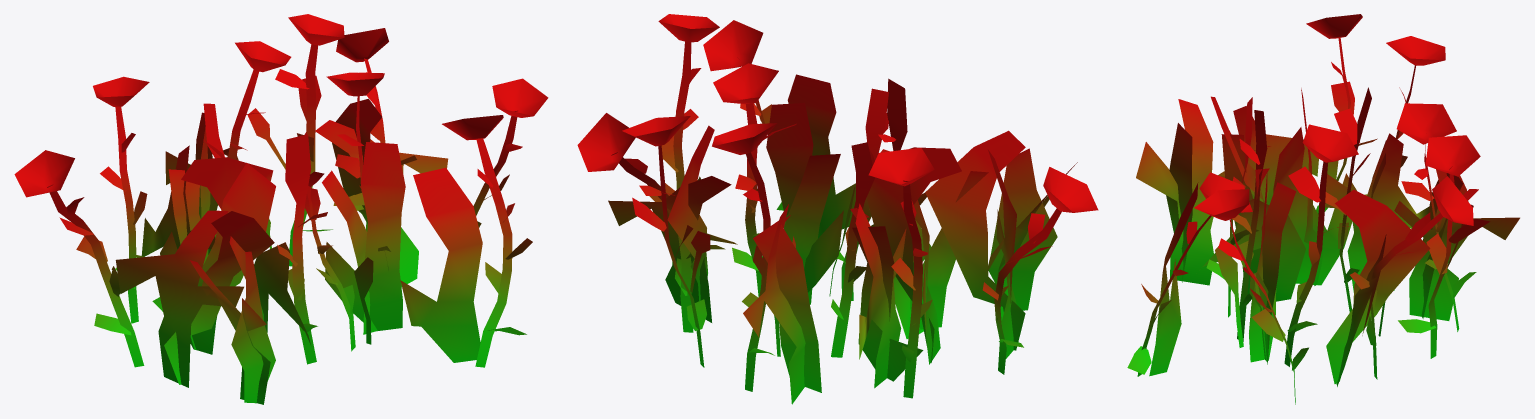
Rendered from Var7_LOD1.fbx.
3 renders of one model, left to right at view 1: azimuth 30°, elevation 25°; view 2: azimuth 150°, elevation 25°; view 3: azimuth 270°, elevation 25°, orthographic. The views are drawn at different scales.
Parts seen in each view (by area): view 1: _cf0a_Var7_LOD1; view 2: _cf0a_Var7_LOD1; view 3: _cf0a_Var7_LOD1.
Boxes of the visible parts, left/top/right/bottom form: _cf0a_Var7_LOD1: left=14, top=14, right=548, bottom=404; _cf0a_Var7_LOD1: left=577, top=14, right=1098, bottom=404; _cf0a_Var7_LOD1: left=1127, top=14, right=1519, bottom=404.
Size of the model in its own units: 17.79 by 8.88 by 13.37.
